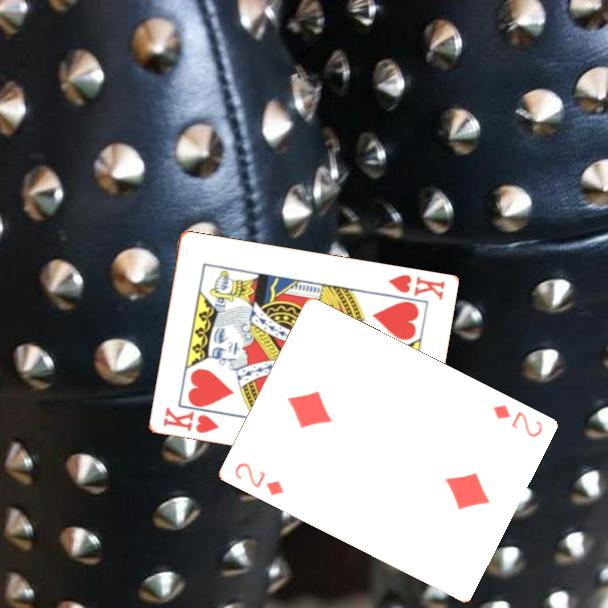d02: (230, 459, 287, 499), (489, 401, 545, 440)
h13: (159, 404, 222, 436), (385, 271, 447, 303)
